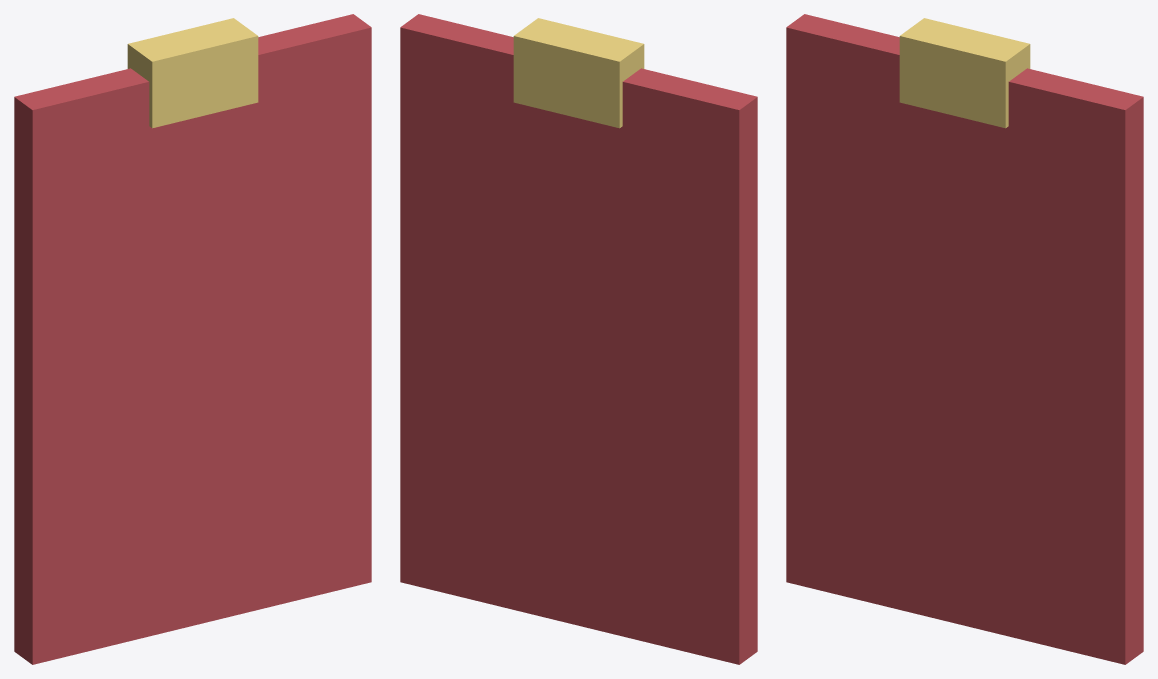
File: cape.glb
3 views of the same model, side by side, from view 1: azimuth 30°, elevation 25°; view 2: azimuth 150°, elevation 25°; view 3: azimuth 330°, elevation 25° (orthographic).
Parts seen in each view (by area): view 1: umhang, spange; view 2: umhang, spange; view 3: umhang, spange.
Boxes of the visible parts, x1,y1,x2,y2 form: umhang: (14, 14, 371, 664); spange: (127, 18, 258, 128); umhang: (400, 14, 757, 664); spange: (513, 18, 644, 128); umhang: (786, 14, 1143, 664); spange: (899, 18, 1030, 128).
Bounding box in the file's own units: 0.16 × 0.26 × 0.02.
